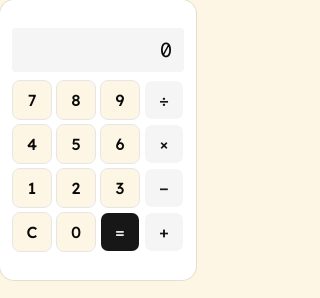
OnScreenCalculator › displays typed digits
Click the button "4": [32, 144] box [12,124,52,164]
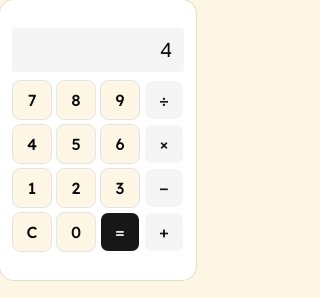
Click the button "2": [76, 188] box [56,168,96,208]
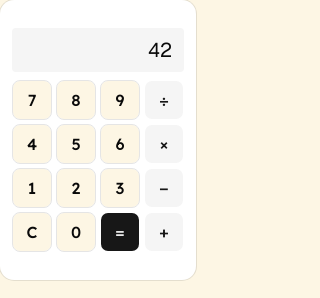
Check: the message reads "42", box [148,37,172,63]
